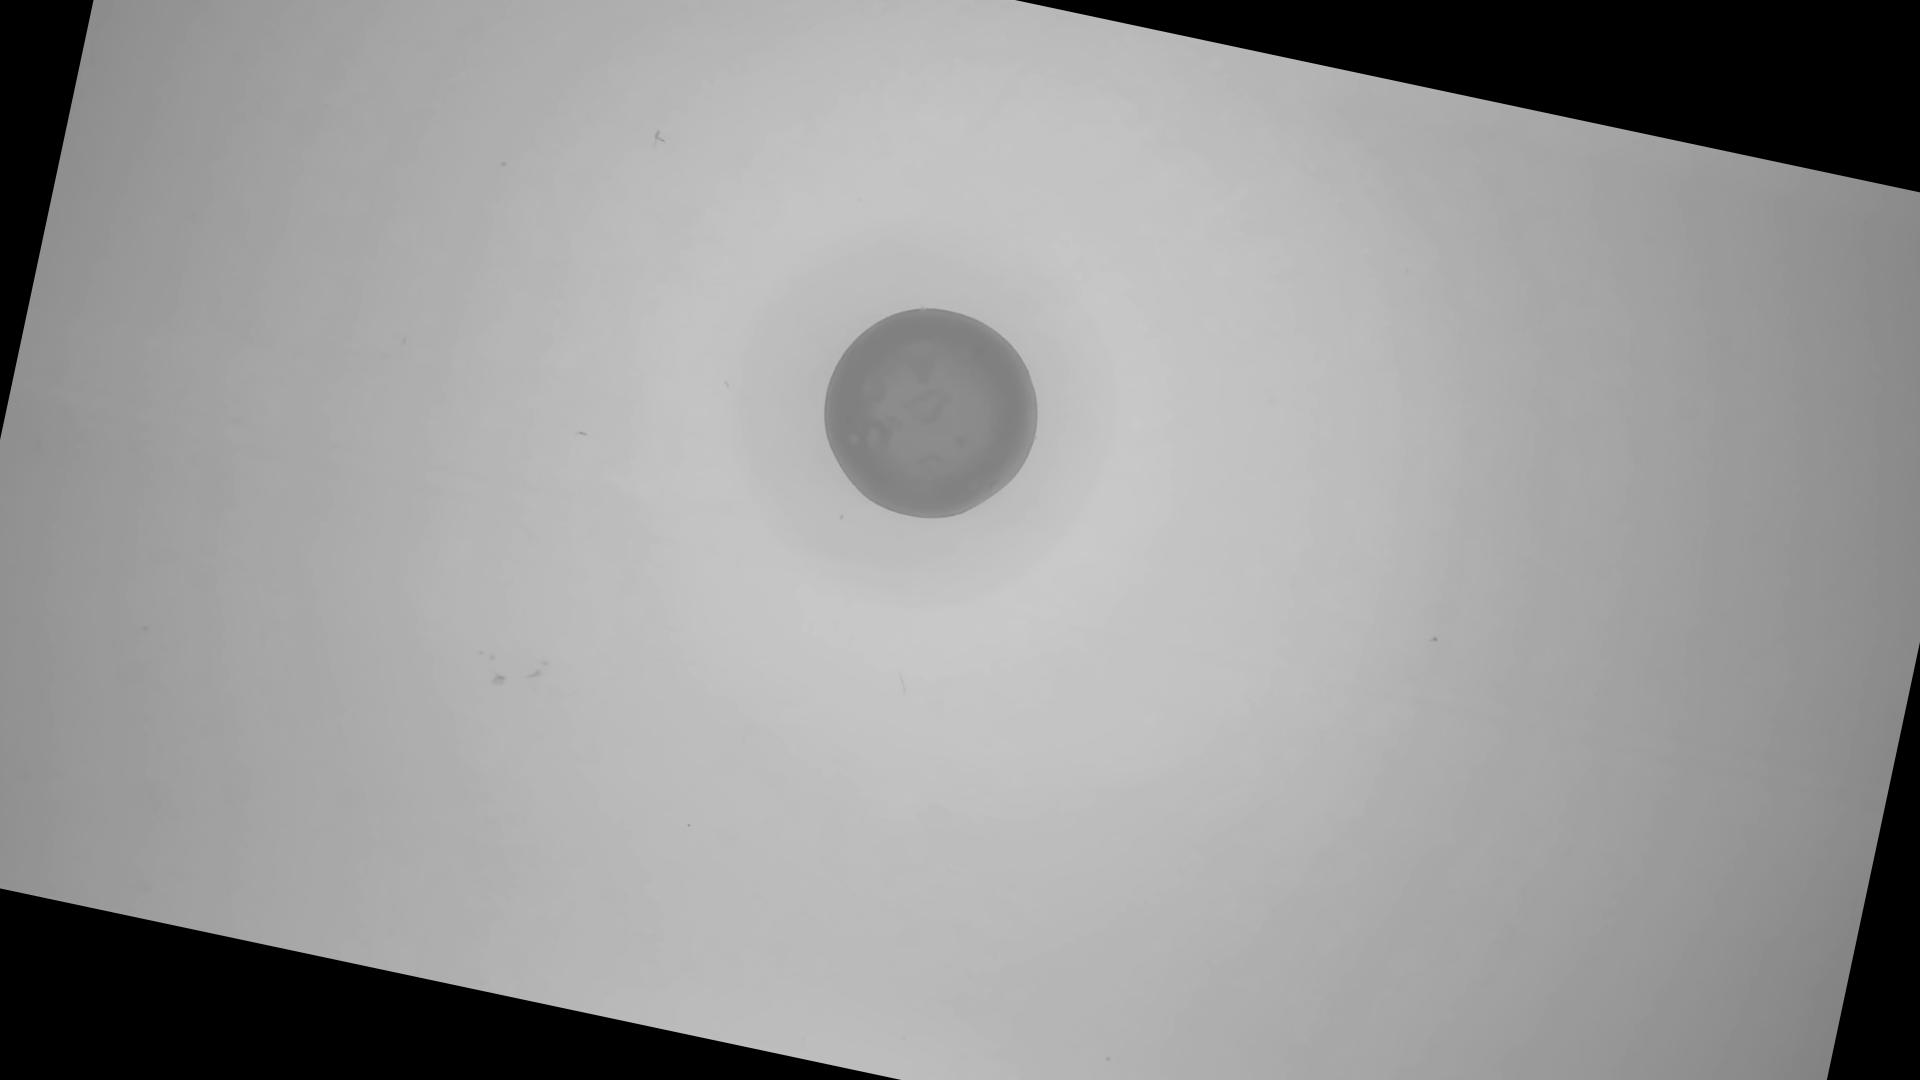abnormal: (800, 285, 1065, 543)
